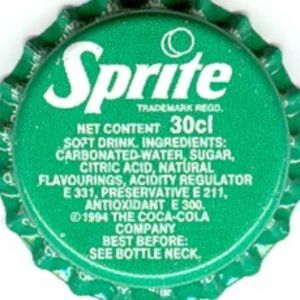sprite: (43, 32, 231, 111), (43, 32, 231, 107), (43, 40, 231, 111)
